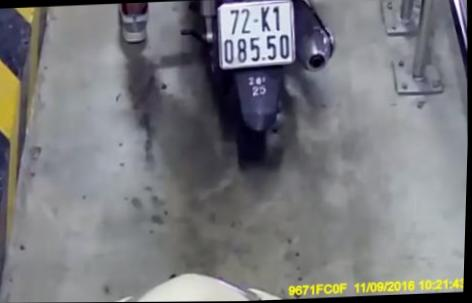LP: (217, 0, 299, 69)
